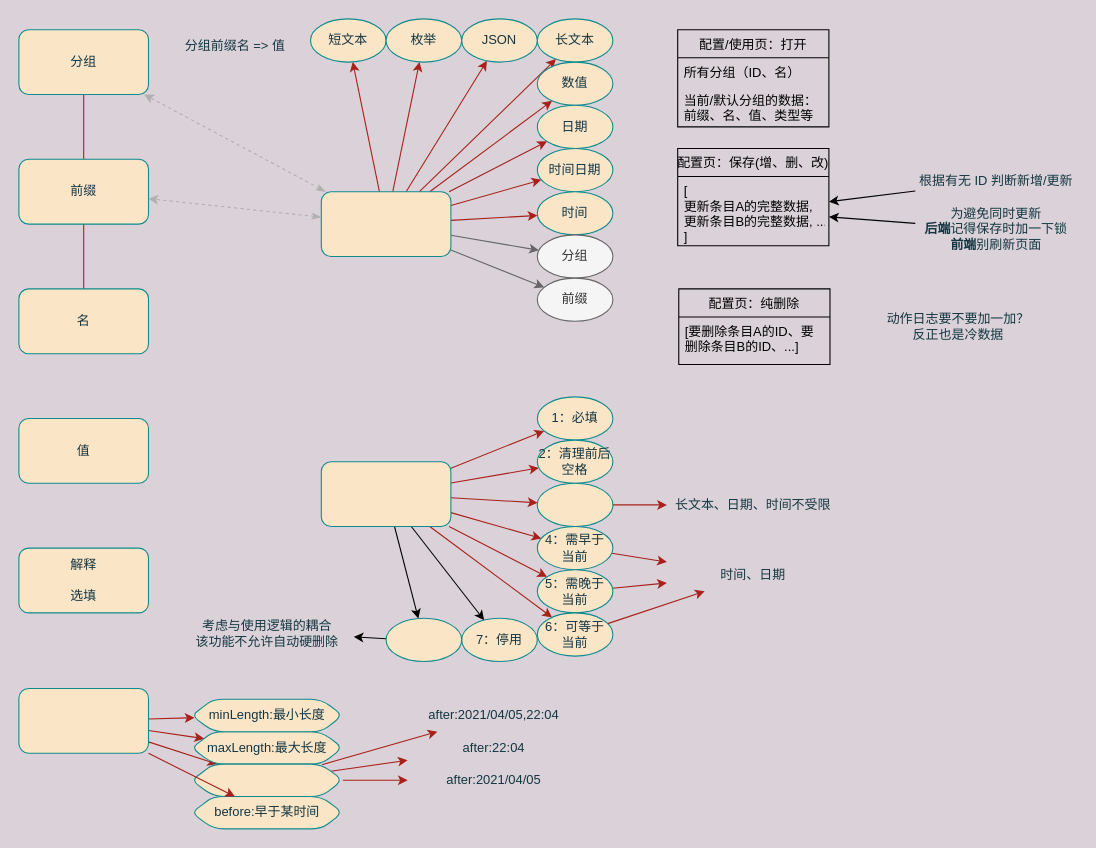
Some shapes in this 1096 by 848 pixel diagram are drawn without their labels. The centre of each missing label's shape, as x and y in pixels:
"3：长度受限" goes at [574,504].
"8：软删" goes at [423,639].
"after:晚于某时间" goes at [267,779].
"值类型" goes at [385,223].
"复杂状态 K:V;K:V..." goes at [83,720].
"简单状态 （二进制）" goes at [385,493].
